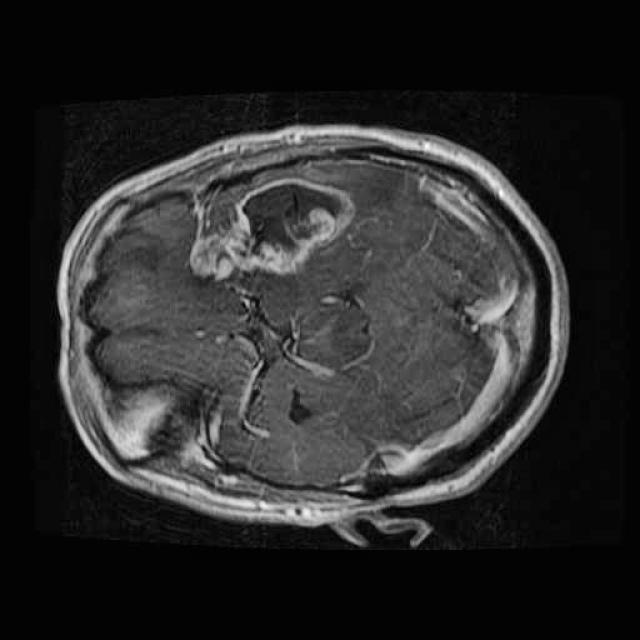Non-Tumor: (178, 171, 361, 284)
